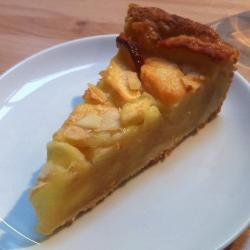apple_pie: (42, 5, 222, 237)
